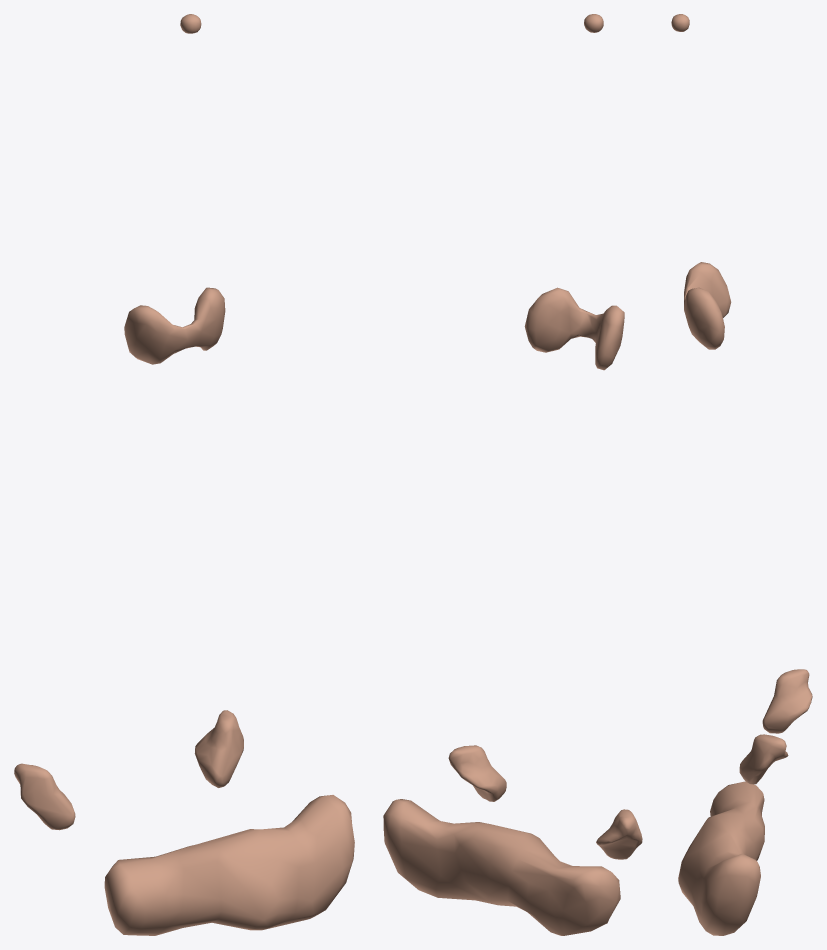
Rendered from pediatric_adolescent_male.endocrine.LOD1.glb.
The picture shows the model from 3 angles, left to right: view 1: azimuth 30°, elevation 25°; view 2: azimuth 150°, elevation 25°; view 3: azimuth 270°, elevation 25°; orthographic projection. The views are drawn at different scales.
Visible parts, largest first — view 1: PEDIATRIC.ADOLESCENT.MALE.ENDOCRINE.PANCREAS, PEDIATRIC.ADOLESCENT.MALE.ENDOCRINE.THYROID, PEDIATRIC.ADOLESCENT.MALE.ENDOCRINE.ADRENAL.L, PEDIATRIC.ADOLESCENT.MALE.ENDOCRINE.ADRENAL.R; view 2: PEDIATRIC.ADOLESCENT.MALE.ENDOCRINE.PANCREAS, PEDIATRIC.ADOLESCENT.MALE.ENDOCRINE.THYROID, PEDIATRIC.ADOLESCENT.MALE.ENDOCRINE.ADRENAL.L, PEDIATRIC.ADOLESCENT.MALE.ENDOCRINE.ADRENAL.R; view 3: PEDIATRIC.ADOLESCENT.MALE.ENDOCRINE.PANCREAS, PEDIATRIC.ADOLESCENT.MALE.ENDOCRINE.THYROID, PEDIATRIC.ADOLESCENT.MALE.ENDOCRINE.ADRENAL.R, PEDIATRIC.ADOLESCENT.MALE.ENDOCRINE.ADRENAL.L.
Part boxes in pixels (x1,y1,x2,y2): PEDIATRIC.ADOLESCENT.MALE.ENDOCRINE.PANCREAS: [104, 795, 354, 935]; PEDIATRIC.ADOLESCENT.MALE.ENDOCRINE.THYROID: [124, 287, 225, 364]; PEDIATRIC.ADOLESCENT.MALE.ENDOCRINE.ADRENAL.L: [194, 710, 243, 787]; PEDIATRIC.ADOLESCENT.MALE.ENDOCRINE.ADRENAL.R: [14, 763, 75, 830]; PEDIATRIC.ADOLESCENT.MALE.ENDOCRINE.PANCREAS: [383, 799, 620, 935]; PEDIATRIC.ADOLESCENT.MALE.ENDOCRINE.THYROID: [524, 287, 624, 370]; PEDIATRIC.ADOLESCENT.MALE.ENDOCRINE.ADRENAL.L: [448, 745, 506, 801]; PEDIATRIC.ADOLESCENT.MALE.ENDOCRINE.ADRENAL.R: [596, 809, 642, 859]; PEDIATRIC.ADOLESCENT.MALE.ENDOCRINE.PANCREAS: [678, 781, 764, 935]; PEDIATRIC.ADOLESCENT.MALE.ENDOCRINE.THYROID: [684, 262, 731, 349]; PEDIATRIC.ADOLESCENT.MALE.ENDOCRINE.ADRENAL.R: [762, 669, 812, 733]; PEDIATRIC.ADOLESCENT.MALE.ENDOCRINE.ADRENAL.L: [739, 734, 788, 784].
Bounding box in the file's own units: 0.1672 × 0.5115 × 0.0762.
